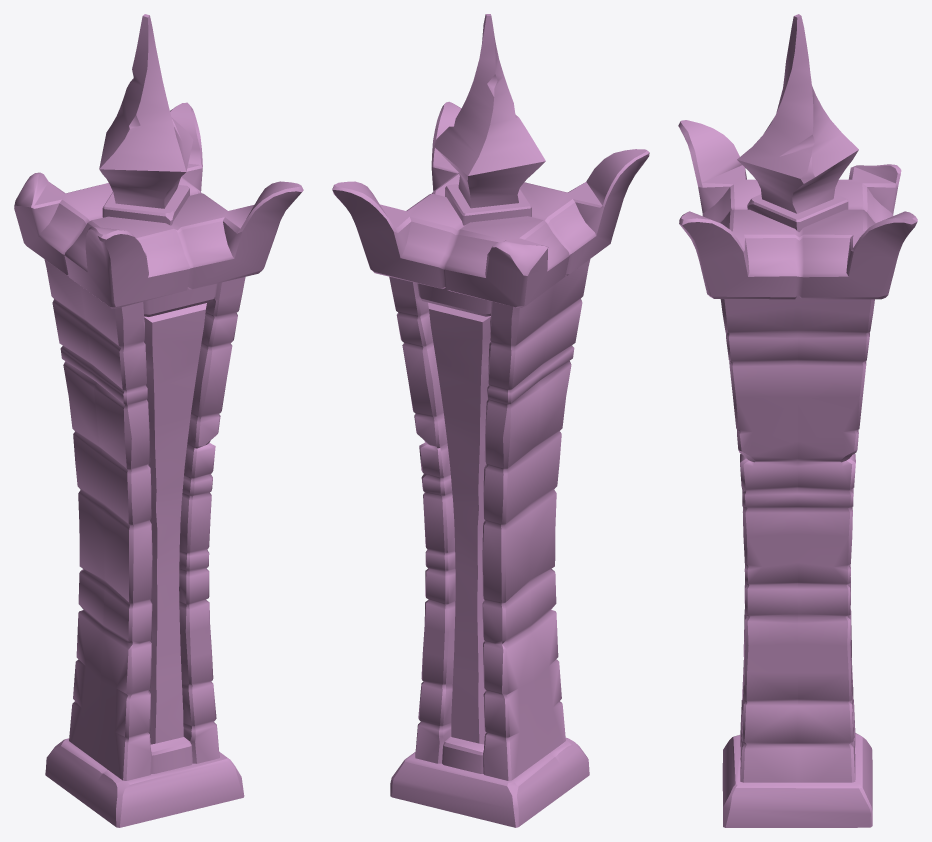
The model's file is SM_Fantasy_obelisk_1.fbx.
3 renders of one model, left to right at view 1: azimuth 30°, elevation 25°; view 2: azimuth 150°, elevation 25°; view 3: azimuth 270°, elevation 25°, orthographic.
Visible parts, largest first — view 1: SM_Fantasy_obelisk_1; view 2: SM_Fantasy_obelisk_1; view 3: SM_Fantasy_obelisk_1.
Boxes of the visible parts, x1,y1,x2,y2 form: SM_Fantasy_obelisk_1: [14, 14, 303, 827]; SM_Fantasy_obelisk_1: [332, 14, 649, 827]; SM_Fantasy_obelisk_1: [678, 14, 917, 827].
Bounding box in the file's own units: 78.7 × 283 × 78.63.
